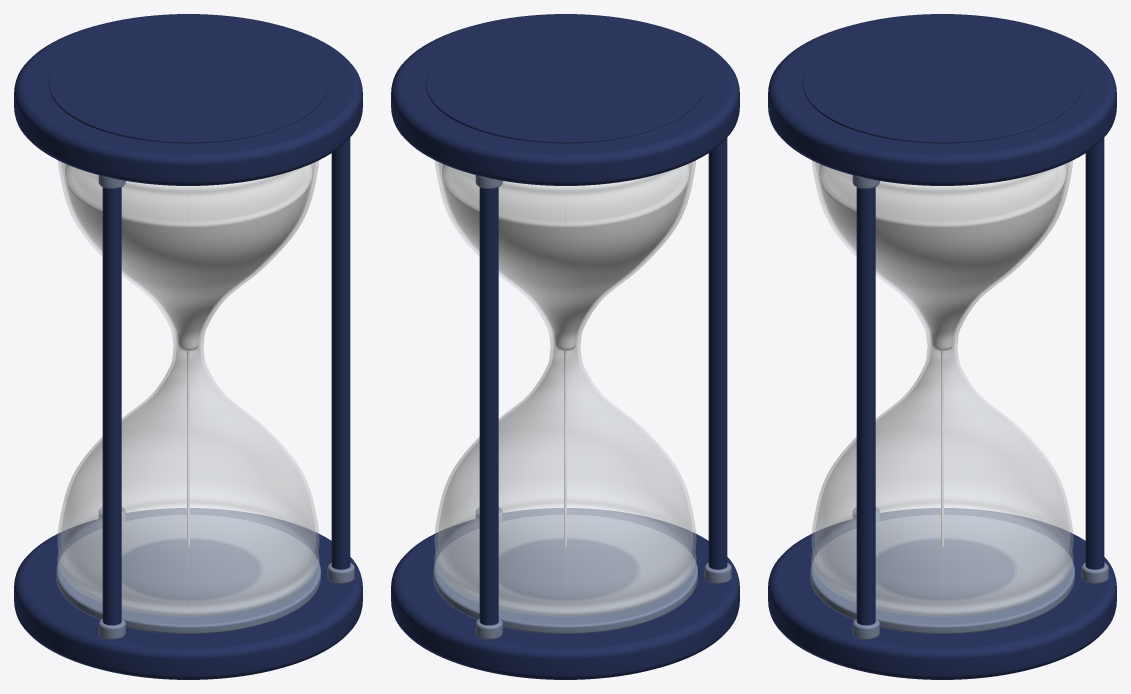
Rendered from hourglass.glb.
3 renders of one model, left to right at view 1: azimuth 30°, elevation 25°; view 2: azimuth 150°, elevation 25°; view 3: azimuth 270°, elevation 25°, orthographic.
Parts seen in each view (by area): view 1: Glass_vessel, Upper_inlay, Lower_glass_seat, Upper_cap, Lower_cap, Sand_upper, Frame_pillar_1, Frame_pillar_2, Sand_stream; view 2: Glass_vessel, Upper_inlay, Lower_glass_seat, Upper_cap, Lower_cap, Sand_upper, Frame_pillar_0, Frame_pillar_1, Sand_stream; view 3: Glass_vessel, Upper_inlay, Lower_glass_seat, Upper_cap, Lower_cap, Sand_upper, Frame_pillar_2, Frame_pillar_0, Sand_stream.
Part boxes in pixels (x1,y1,x2,y2): Glass_vessel: (57,160,319,616); Upper_inlay: (48,23,328,143); Lower_glass_seat: (56,515,320,633); Upper_cap: (14,14,362,185); Lower_cap: (14,508,362,679); Sand_upper: (65,164,311,350); Frame_pillar_1: (102,187,121,625); Frame_pillar_2: (331,138,350,569); Sand_stream: (187,351,189,547); Glass_vessel: (434,160,696,616); Upper_inlay: (425,23,705,143); Lower_glass_seat: (433,515,697,633); Upper_cap: (391,14,739,185); Lower_cap: (391,508,739,679); Sand_upper: (442,164,688,350); Frame_pillar_0: (479,187,498,625); Frame_pillar_1: (708,138,727,569); Sand_stream: (564,351,566,547); Glass_vessel: (811,160,1073,616); Upper_inlay: (802,23,1082,143); Lower_glass_seat: (810,515,1074,633); Upper_cap: (768,14,1116,185); Lower_cap: (768,508,1116,679); Sand_upper: (819,164,1065,350); Frame_pillar_2: (856,187,875,625); Frame_pillar_0: (1085,138,1104,569); Sand_stream: (941,351,943,547).
Size of the model in its own units: 1.92 by 3.21 by 1.92.
